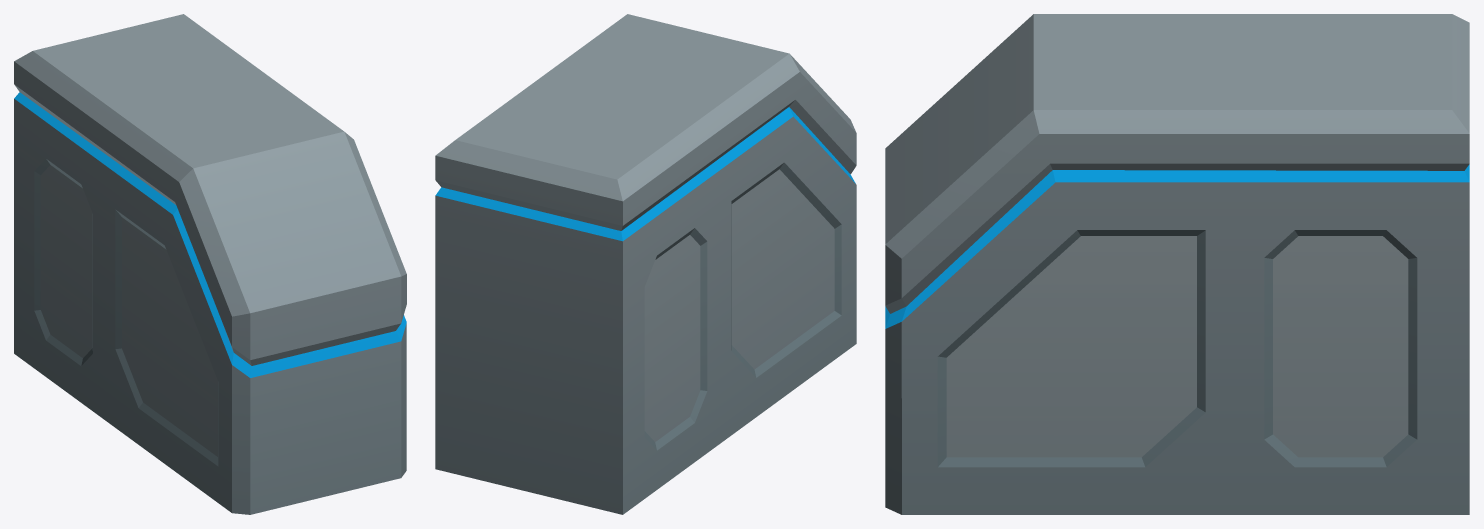
3 renders of one model, left to right at view 1: azimuth 30°, elevation 25°; view 2: azimuth 150°, elevation 25°; view 3: azimuth 270°, elevation 25°, orthographic. The views are drawn at different scales.
Parts seen in each view (by area): view 1: Box_003; view 2: Box_003; view 3: Box_003.
Boxes of the visible parts, left/top/right/bottom form: Box_003: left=14, top=14, right=406, bottom=514; Box_003: left=435, top=14, right=856, bottom=514; Box_003: left=885, top=14, right=1469, bottom=514.
Size of the model in its own units: 0.45 by 0.75 by 1.
2 materials, 2 textured.
